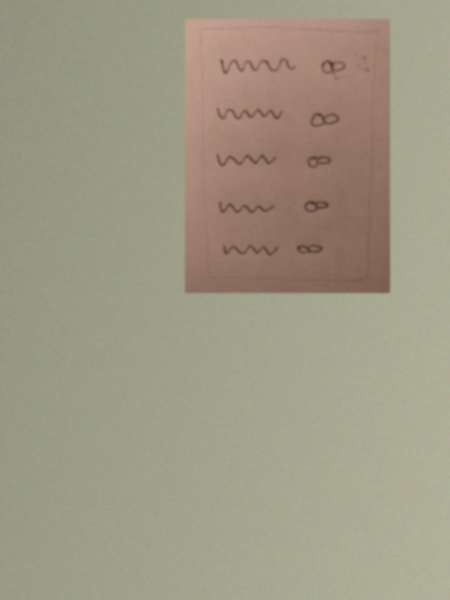switch: (304, 106, 345, 136), (313, 55, 352, 82), (301, 147, 337, 172), (295, 238, 328, 262), (302, 196, 335, 217)
text: (213, 53, 301, 82), (213, 103, 287, 129), (216, 238, 283, 265), (213, 197, 280, 220), (212, 149, 280, 170)
